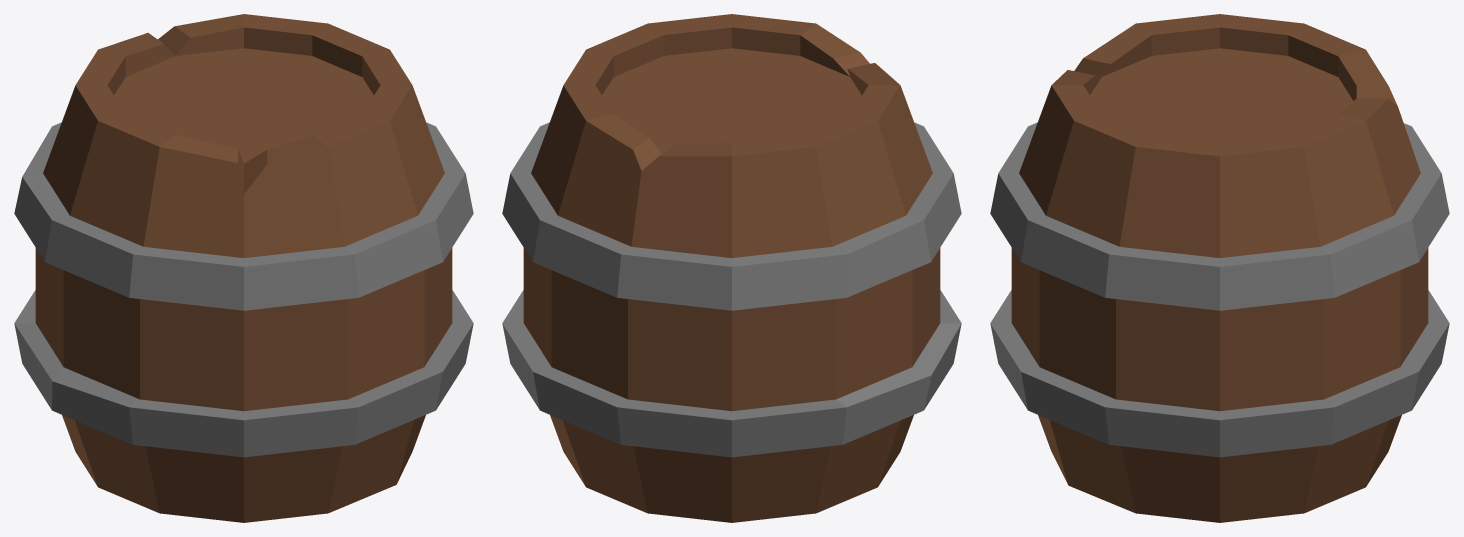
The model's file is barrel.glb.
The picture shows the model from 3 angles, left to right: view 1: azimuth 30°, elevation 25°; view 2: azimuth 150°, elevation 25°; view 3: azimuth 270°, elevation 25°; orthographic projection.
Parts seen in each view (by area): view 1: Botte; view 2: Botte; view 3: Botte.
Boxes of the visible parts, x1,y1,x2,y2 form: Botte: (14, 14, 473, 522); Botte: (502, 14, 961, 522); Botte: (990, 14, 1449, 522).
Bounding box in the file's own units: 1.36 × 1.2 × 1.36.
